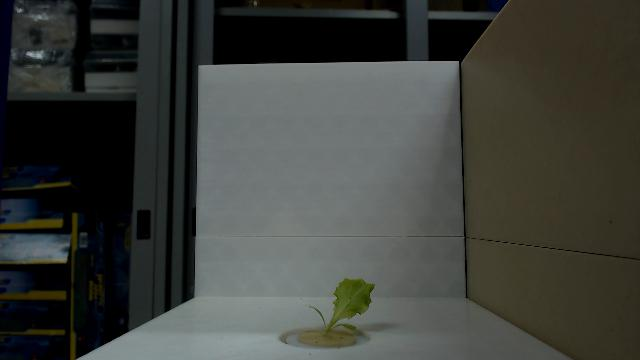Seedling Stage: (306, 276, 376, 340)
